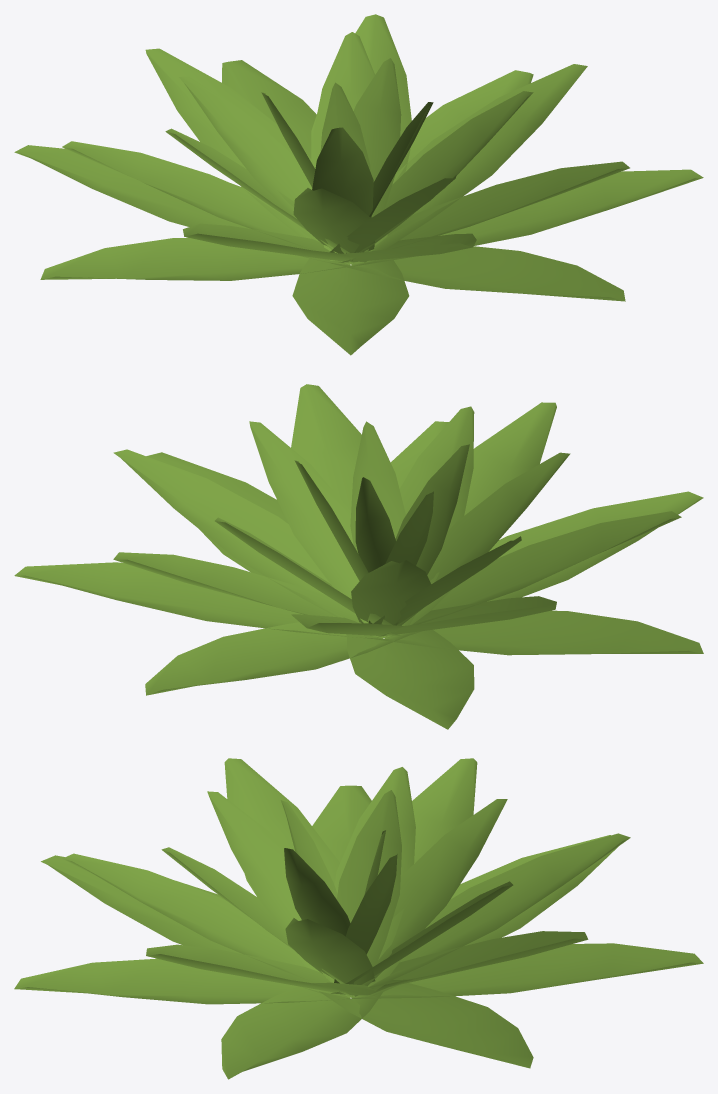
Rendered from AgaveCactus 1.fbx.
The picture shows the model from 3 angles, top to bottom: view 1: azimuth 30°, elevation 25°; view 2: azimuth 150°, elevation 25°; view 3: azimuth 270°, elevation 25°; orthographic projection. The views are drawn at different scales.
Visible parts, largest first — view 1: Agave; view 2: Agave; view 3: Agave.
Part boxes in pixels (x1,y1,x2,y2): Agave: (14, 14, 703, 355); Agave: (14, 384, 703, 729); Agave: (14, 758, 703, 1079).
Bounding box in the file's own units: 34.93 × 9.68 × 34.66.
